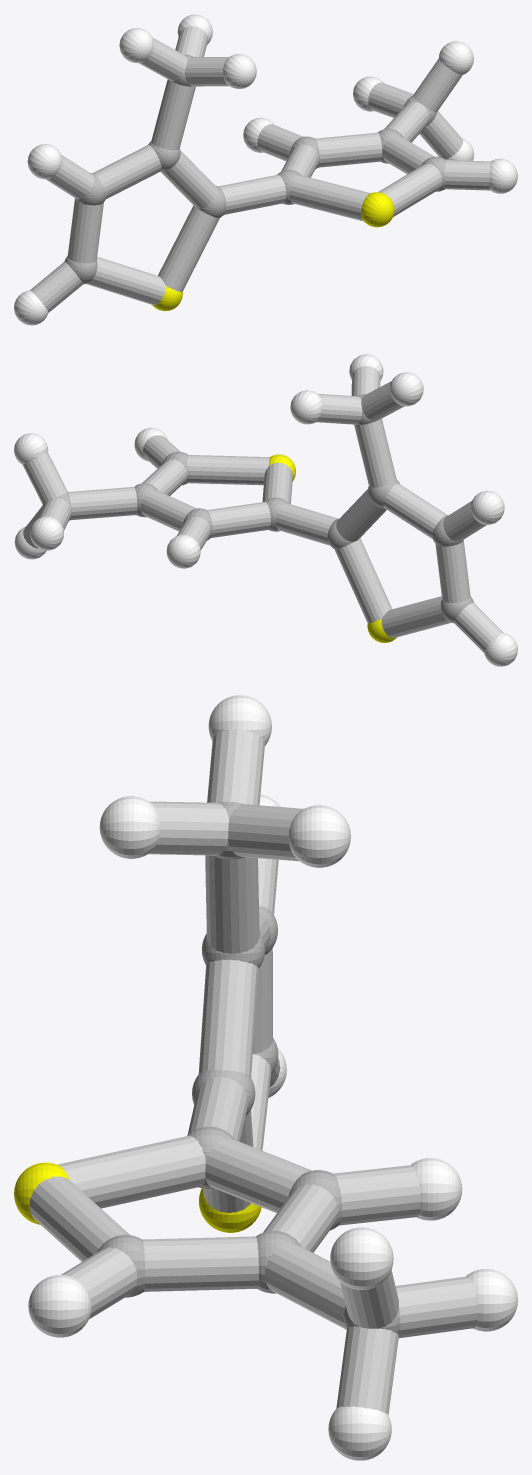
The model's file is color.glb.
3 views of the same model, one above another, from view 1: azimuth 30°, elevation 25°; view 2: azimuth 150°, elevation 25°; view 3: azimuth 270°, elevation 25° (orthographic). The views are drawn at different scales.
Parts seen in each view (by area): view 1: grp7965, grp3621, grp1, grp7241; view 2: grp7965, grp3621, grp1, grp7241; view 3: grp7965, grp3621, grp1, grp7241.
Boxes of the visible parts, box(x1,y1,x2,y2) form: grp7965: box(30, 26, 490, 312); grp3621: box(14, 14, 517, 325); grp1: box(64, 54, 445, 284); grp7241: box(152, 192, 394, 311); grp7965: box(23, 366, 503, 652); grp3621: box(14, 354, 517, 666); grp1: box(42, 394, 473, 623); grp7241: box(268, 454, 396, 642); grp7965: box(29, 729, 477, 1414); grp3621: box(28, 695, 517, 1460); grp1: box(97, 801, 400, 1334); grp7241: box(14, 1162, 261, 1232).
Bounding box in the file's own units: 9.5 × 5.32 × 4.77.
